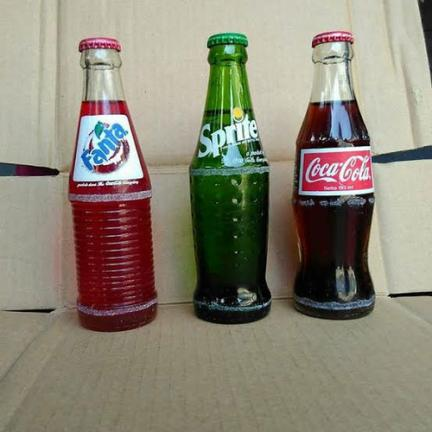container: (68, 38, 156, 331), (292, 32, 374, 319), (189, 33, 270, 323)
fluid: (68, 101, 156, 331), (292, 101, 374, 321), (190, 111, 270, 323)
fluid-surface: (205, 106, 253, 116), (309, 99, 352, 106), (82, 99, 125, 105)
